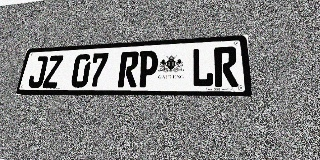0: (70, 54, 92, 88)
7: (87, 53, 109, 88)
J: (27, 56, 49, 88)
L: (191, 47, 214, 87)
P: (137, 50, 159, 87)
R: (214, 46, 238, 87), (117, 51, 139, 87)
Z: (42, 55, 64, 88)
